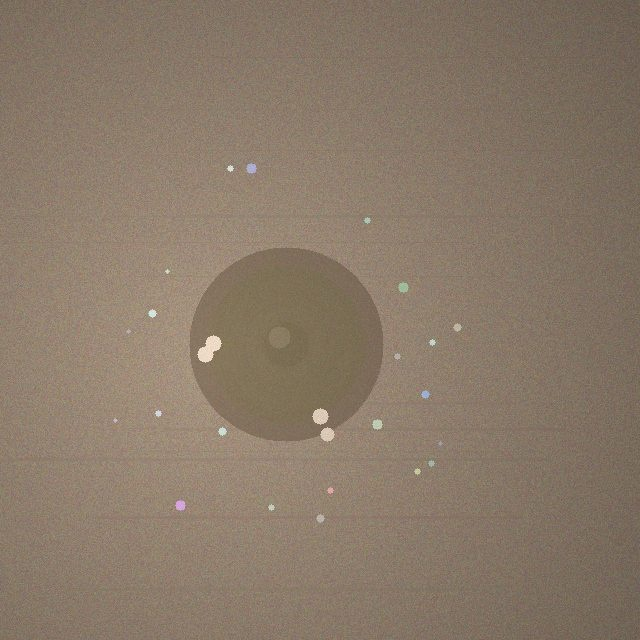overburn: (189, 247, 383, 441)
